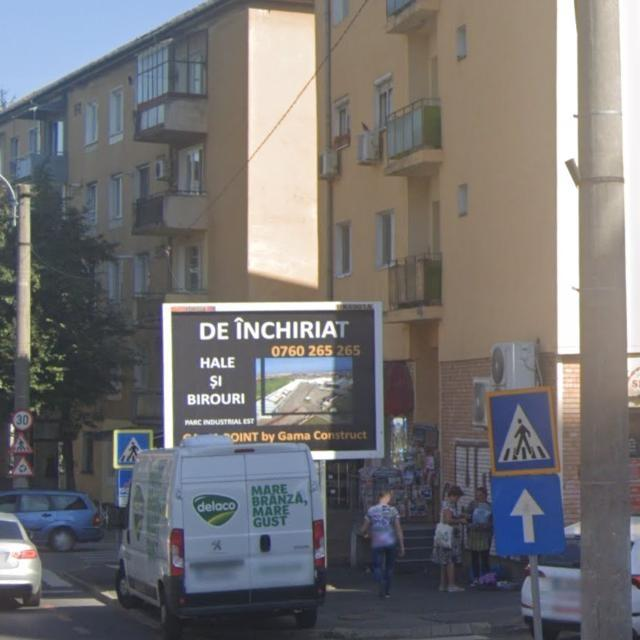forb_speed_over_30: (10, 407, 34, 432)
info_crosswalk: (484, 388, 561, 474), (112, 429, 151, 471)
warn_crosswalk: (8, 432, 34, 455)
